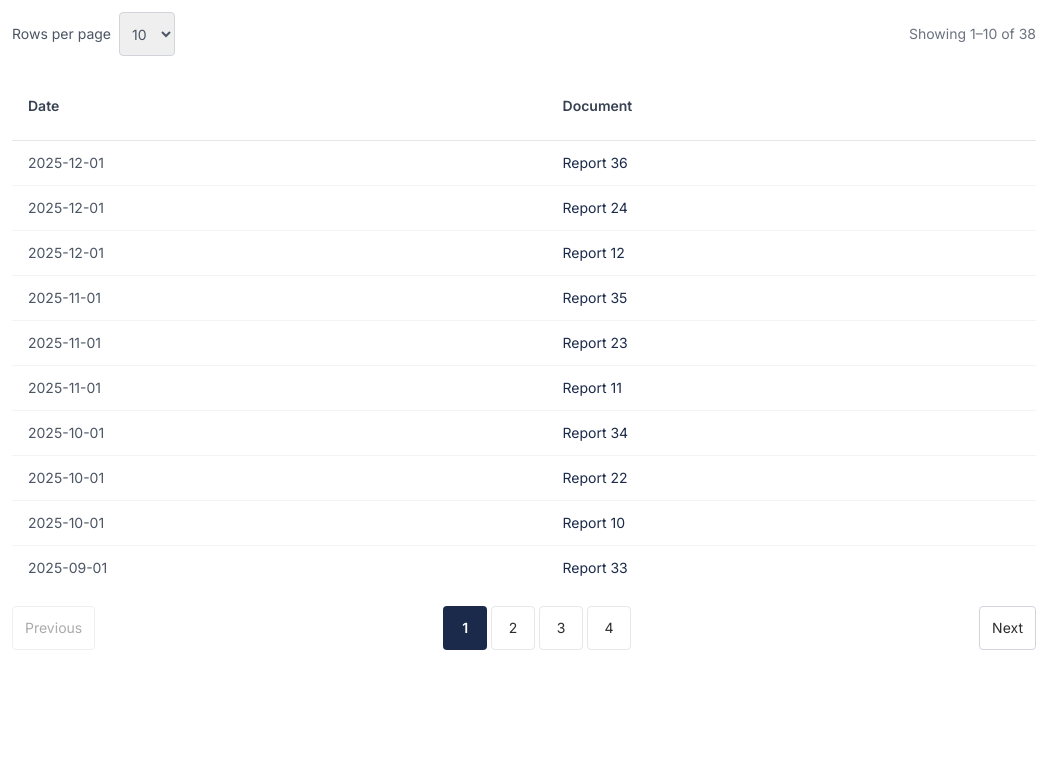
it: ReportsTable › navigates directly to a numbered page button (regression: 4 pages)
The width and height of the screenshot is (1048, 780).
What coordinates should you click on to do the following:
click the button "Document"
I would click on:
 (597, 106)
Its box is [562,84,632,128].
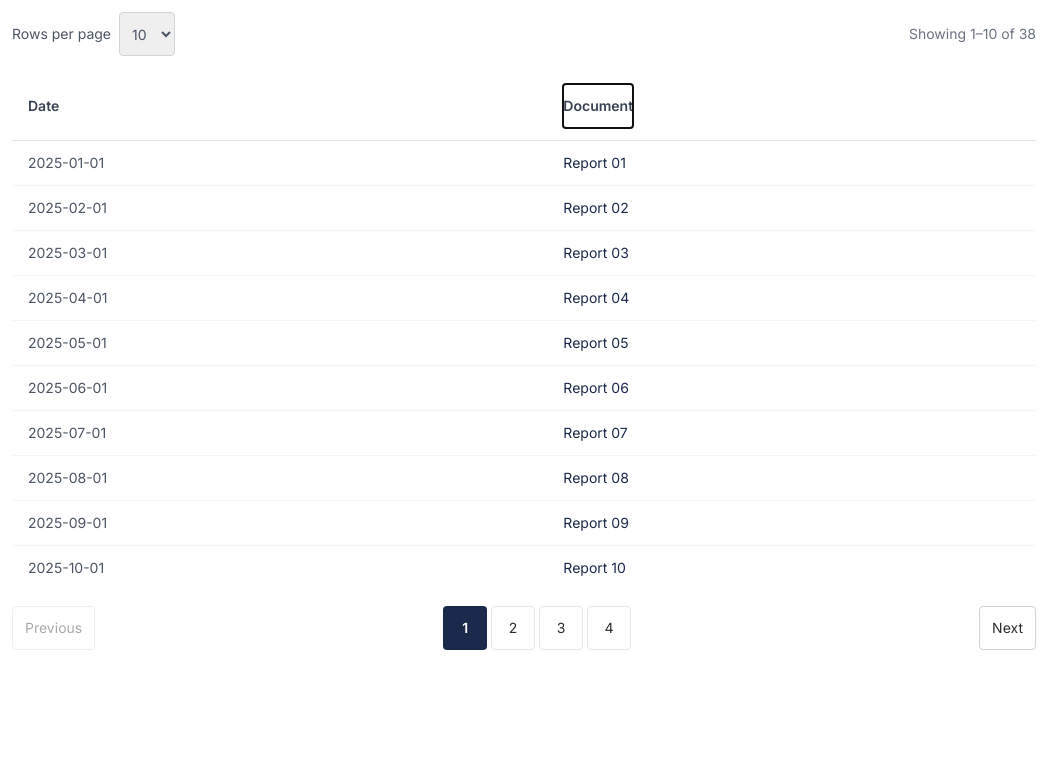
Expected: the text "Showing 1–10 of 38" is shown, [909,24,1036,44]
Click the "Page 4" number button directly.
What coordinates should you click on to do the following:
click the button named "Page 4"
I would click on:
 (609, 628)
Its box is [587,606,631,650].
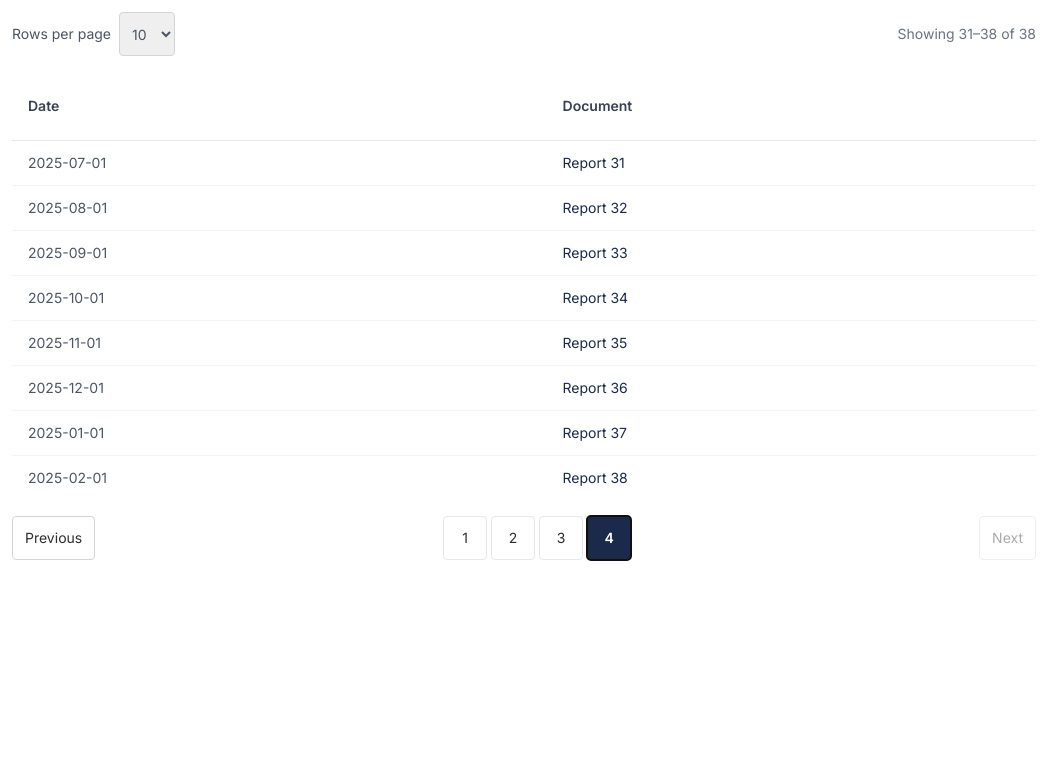
Result: the text "Showing 31–38 of 38" is shown at [898,24,1036,44]
Result: the link "Report 38" is shown at [562,469,628,486]
Result: the link "Report 01" is gone
What coordinates should you click on to do the following:
click the button named "Page 2"
I would click on:
 (513, 538)
Its box is [491,516,535,560].
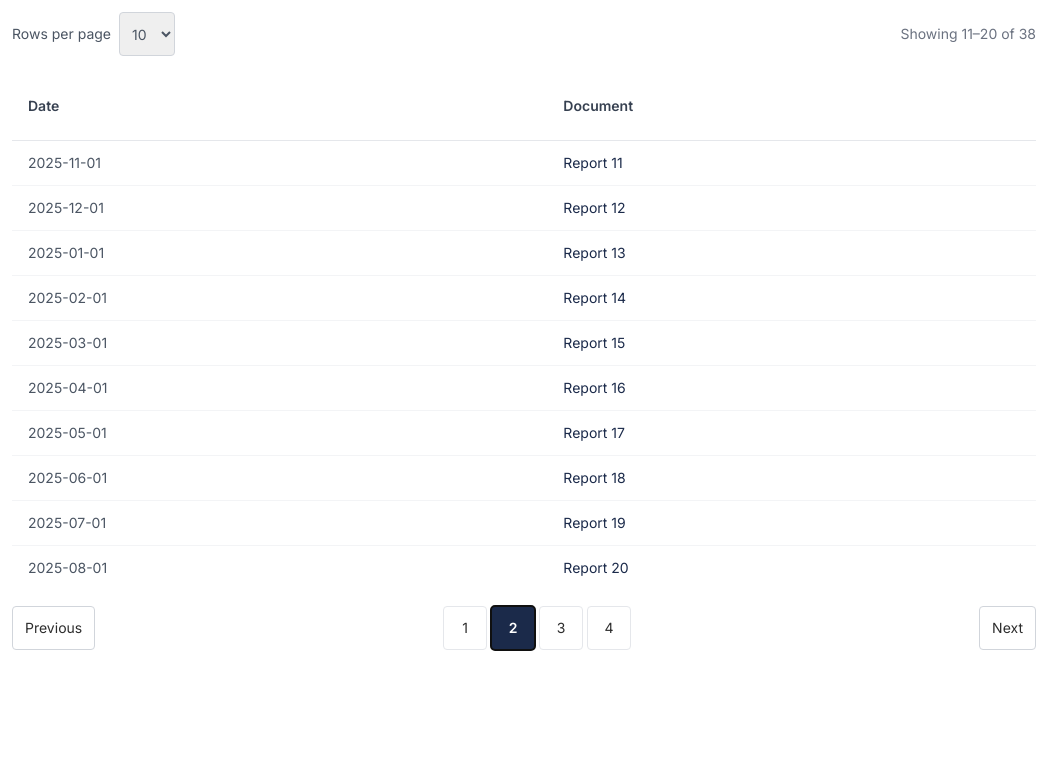
Result: the text "Showing 11–20 of 38" is shown at [900,24,1036,44]
What coordinates should you click on to do the following:
click the button named "Page 3"
I would click on:
 (561, 628)
Its box is [539,606,583,650].
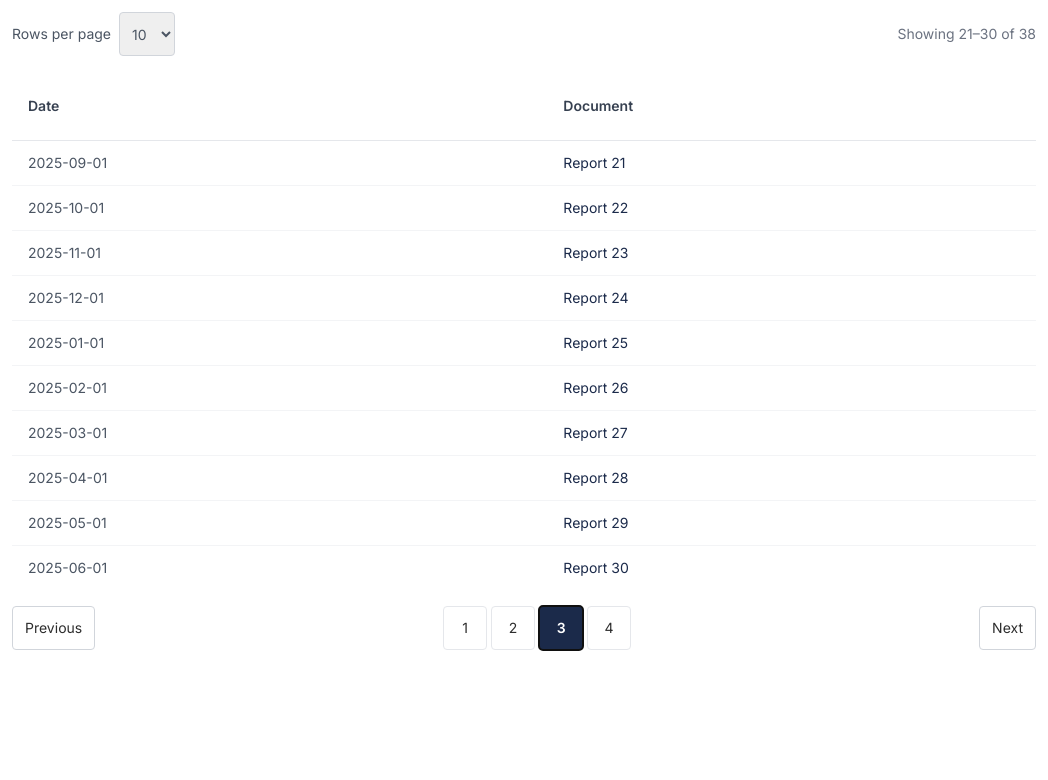
Result: the text "Showing 21–30 of 38" is shown at [898,24,1036,44]
